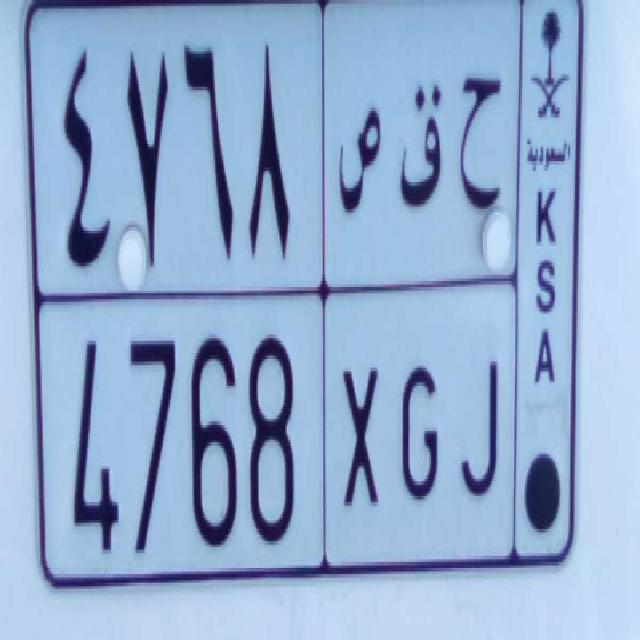license_plate: (53, 295, 515, 580)
